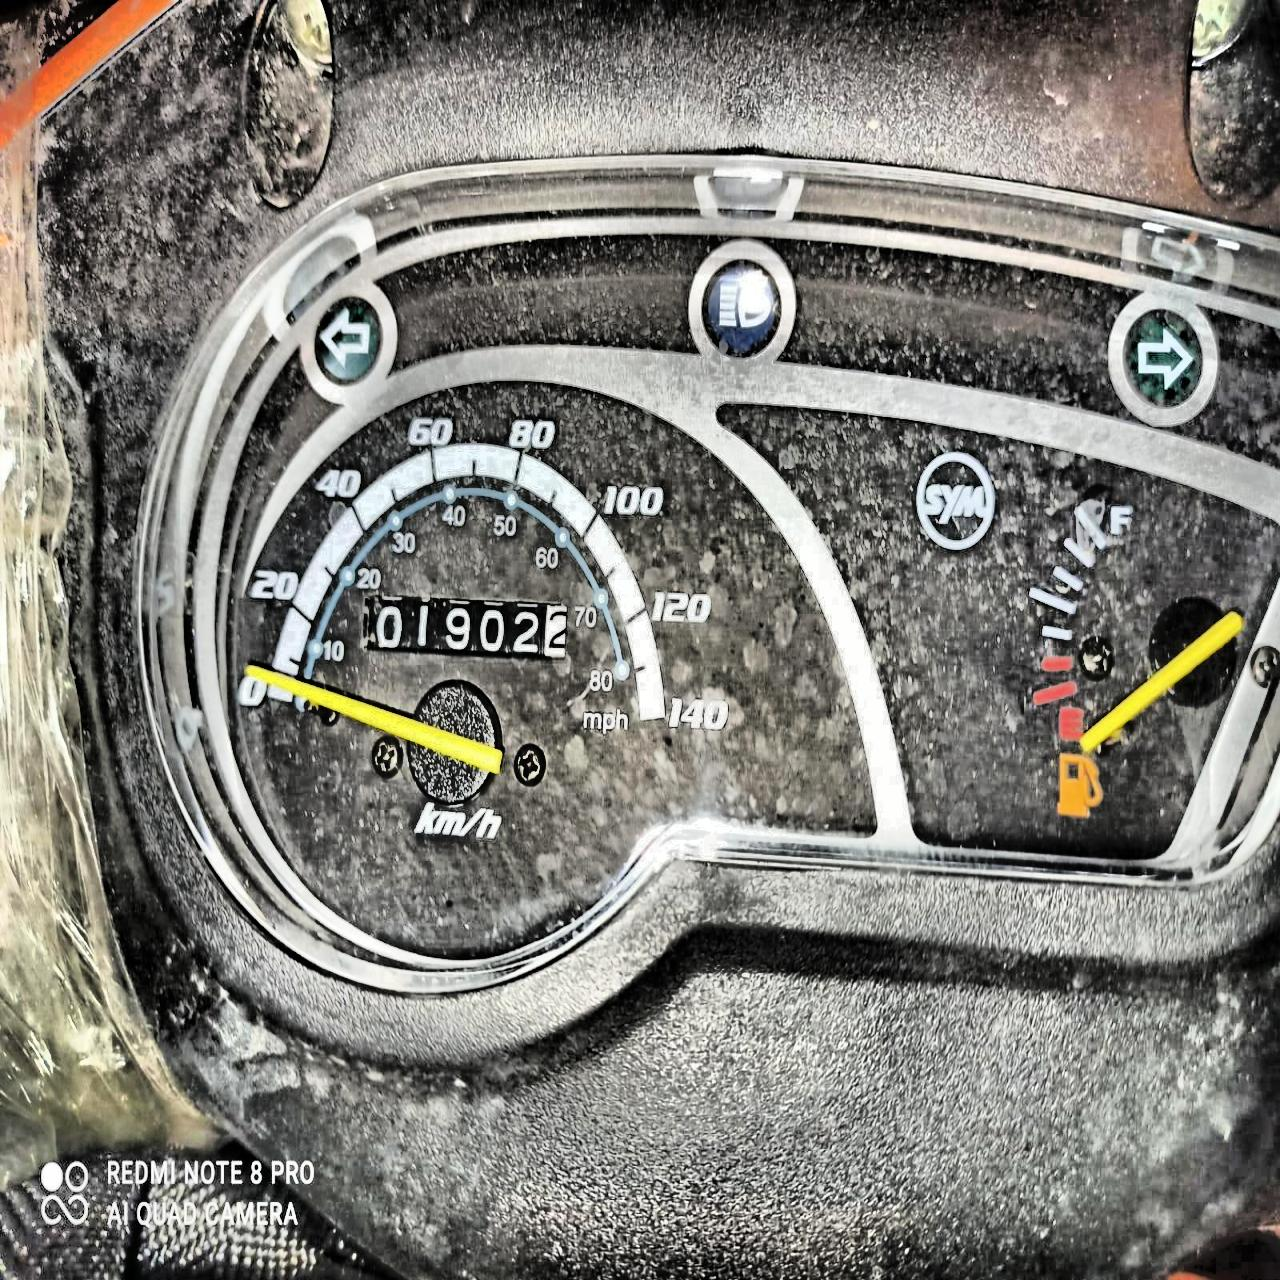0: (374, 603, 402, 648), (478, 608, 504, 651)
1: (417, 604, 429, 646)
2: (513, 608, 538, 654), (548, 608, 566, 649)
9: (445, 606, 470, 652)
odometer: (362, 585, 576, 666)
